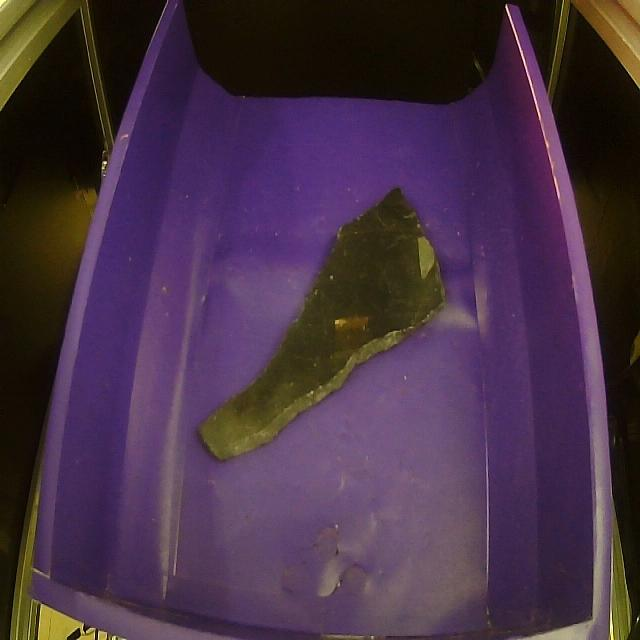china: (184, 172, 453, 466)
